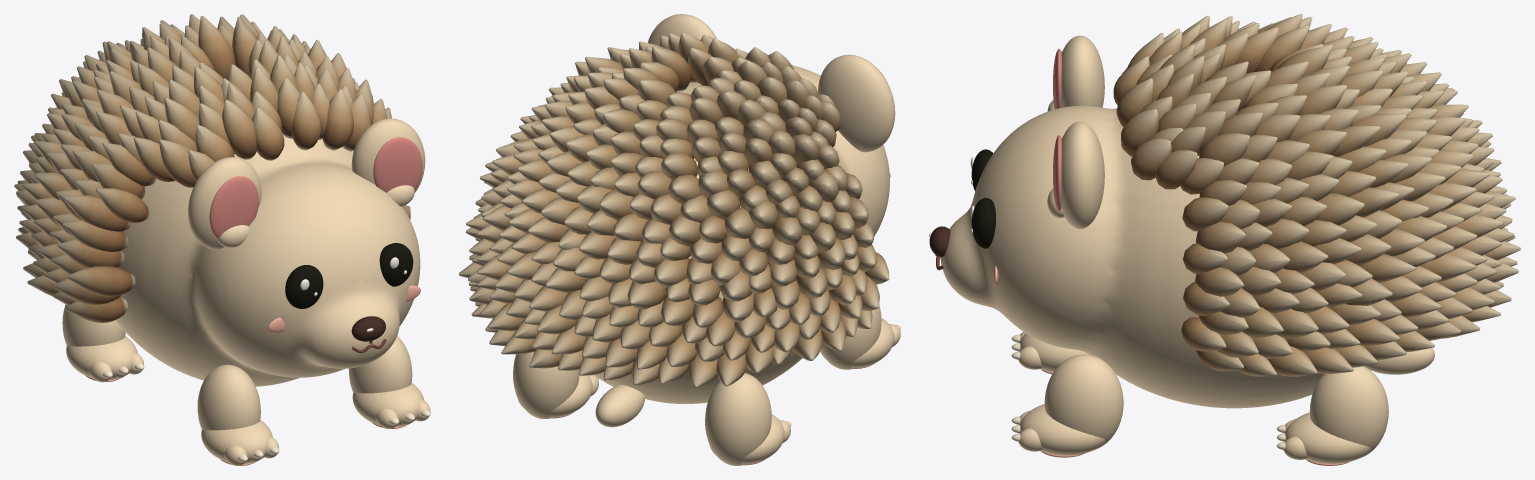
The model's file is hedgehog-stage-08.glb.
The picture shows the model from 3 angles, left to right: view 1: azimuth 30°, elevation 25°; view 2: azimuth 150°, elevation 25°; view 3: azimuth 270°, elevation 25°; orthographic projection. The views are drawn at different scales.
Parts seen in each view (by area): view 1: S08 • 323 individually formed rounded quills, S08 • seamless sculpted body and face, S08 • L front leg, S08 • L ear • outer rim, S08 • R front leg, S08 • L ear • recessed inner bowl, S08 • R ear • recessed inner bowl, S08 • R ear • outer rim, S08 • L rear paw, S08 • R front paw, S08 • L front paw, S08 • L rear leg (+4 smaller); view 2: S08 • 323 individually formed rounded quills, S08 • seamless sculpted body and face, S08 • L ear • outer rim, S08 • L rear leg, S08 • R rear leg, S08 • small tail, S08 • L front leg, S08 • R ear • outer rim, S08 • L rear paw, S08 • L front paw, S08 • R rear paw; view 3: S08 • 323 individually formed rounded quills, S08 • seamless sculpted body and face, S08 • R front leg, S08 • R rear leg, S08 • R ear • outer rim, S08 • L ear • outer rim, S08 • R front paw, S08 • R rear paw, S08 • small tail, S08 • R glossy eye, S08 • L front paw, S08 • R ear • recessed inner bowl.
Boxes of the visible parts, box(x1,y1,x2,y2) form: S08 • 323 individually formed rounded quills: box(14, 14, 410, 322); S08 • seamless sculpted body and face: box(115, 135, 420, 386); S08 • L front leg: box(197, 364, 260, 430); S08 • L ear • outer rim: box(188, 157, 261, 249); S08 • R front leg: box(349, 336, 412, 393); S08 • L ear • recessed inner bowl: box(209, 176, 258, 238); S08 • R ear • recessed inner bowl: box(373, 137, 422, 192); S08 • R ear • outer rim: box(351, 118, 425, 192); S08 • L rear paw: box(66, 336, 137, 379); S08 • R front paw: box(352, 383, 423, 426); S08 • L front paw: box(201, 420, 272, 463); S08 • L rear leg: box(62, 304, 125, 346); S08 • 323 individually formed rounded quills: box(459, 32, 889, 387); S08 • seamless sculpted body and face: box(594, 65, 889, 403); S08 • L ear • outer rim: box(818, 54, 895, 152); S08 • L rear leg: box(705, 373, 771, 465); S08 • R rear leg: box(513, 351, 579, 418); S08 • small tail: box(595, 384, 645, 427); S08 • L front leg: box(820, 305, 881, 369); S08 • R ear • outer rim: box(647, 14, 716, 45); S08 • L rear paw: box(709, 414, 784, 464); S08 • L front paw: box(820, 318, 894, 368); S08 • R rear paw: box(518, 375, 592, 417); S08 • 323 individually formed rounded quills: box(1113, 14, 1520, 376); S08 • seamless sculpted body and face: box(940, 105, 1364, 408); S08 • R front leg: box(1044, 354, 1123, 449); S08 • R rear leg: box(1309, 366, 1388, 458); S08 • R ear • outer rim: box(1061, 121, 1104, 228); S08 • L ear • outer rim: box(1061, 35, 1104, 107); S08 • R front paw: box(1020, 404, 1105, 455); S08 • R rear paw: box(1285, 412, 1371, 463); S08 • small tail: box(1365, 348, 1434, 374); S08 • R glossy eye: box(971, 198, 995, 248); S08 • L front paw: box(1020, 333, 1088, 372); S08 • R ear • recessed inner bowl: box(1053, 135, 1061, 210).
Bounding box in the file's own units: 2.07 × 1.85 × 2.68.
